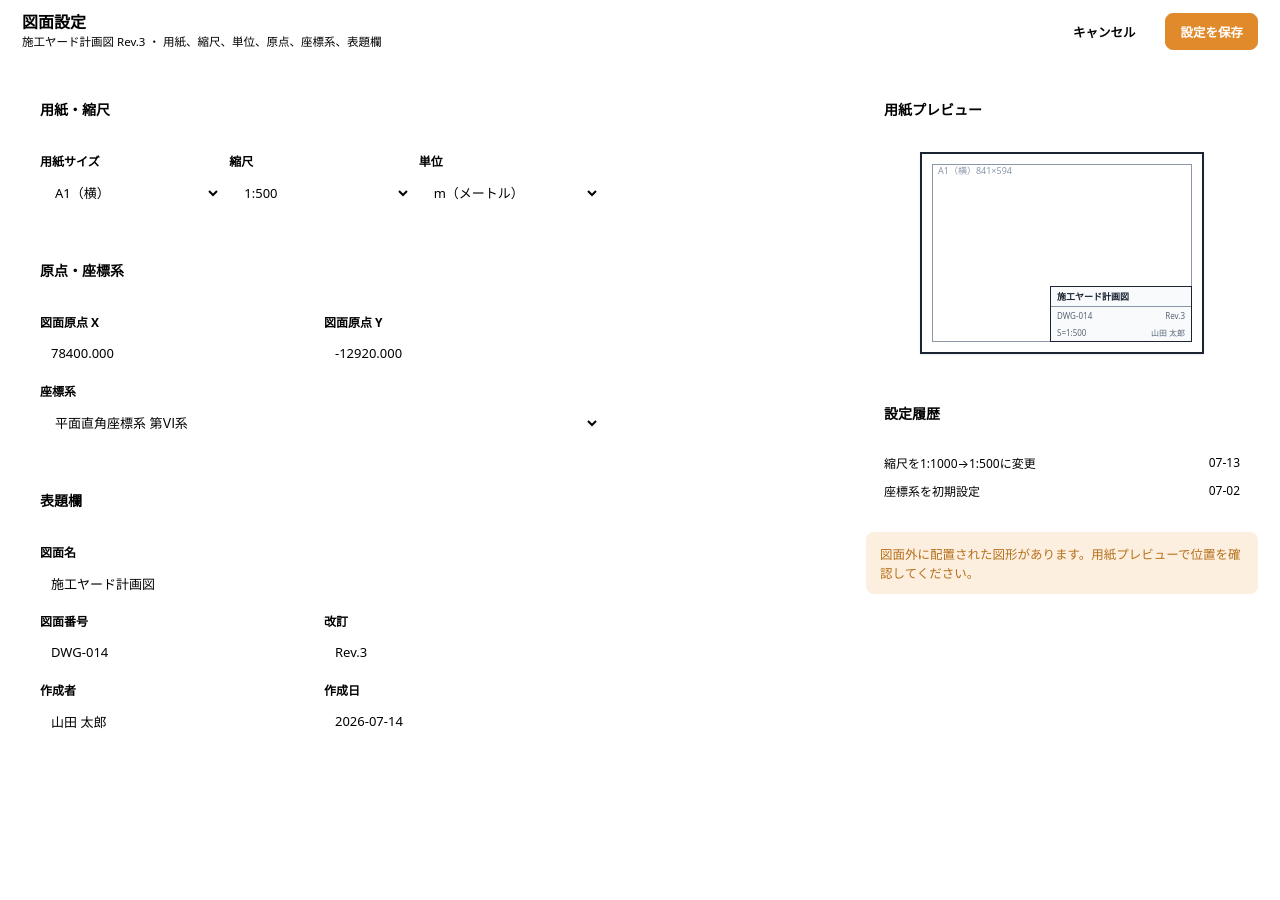
Test case: DrawingSettingsPage › 設定を保存するとヘッダーに反映し、キャンセルで保存済み設定へ戻す
Replace the text in the field showing "施工ヤード計画図" below "図面名" with "施工ヤード計画図 改" at {"x": 320, "y": 583}, box [40,566,600,600]
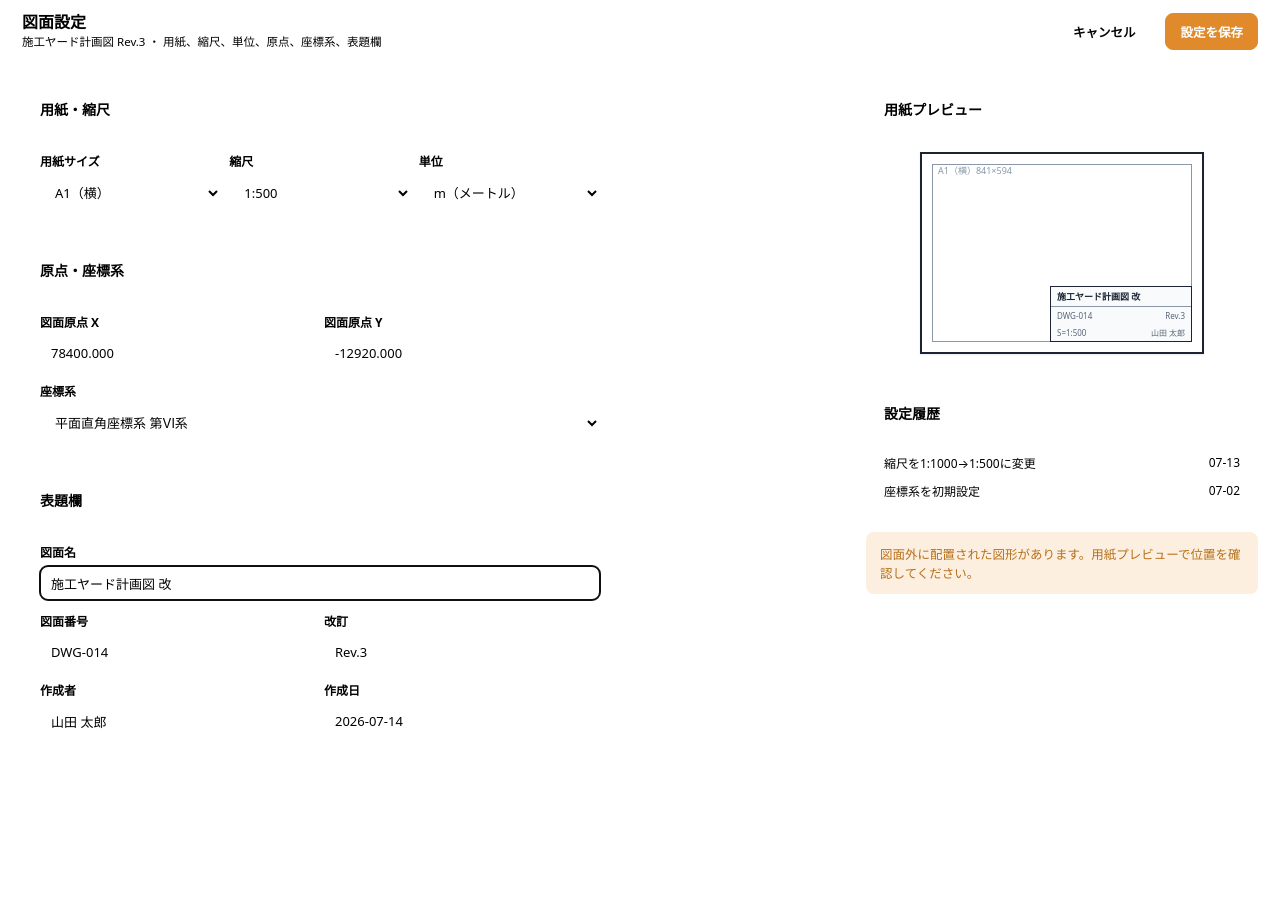
Click the button "設定を保存" at {"x": 1212, "y": 31}, box [1166,12,1258,50]
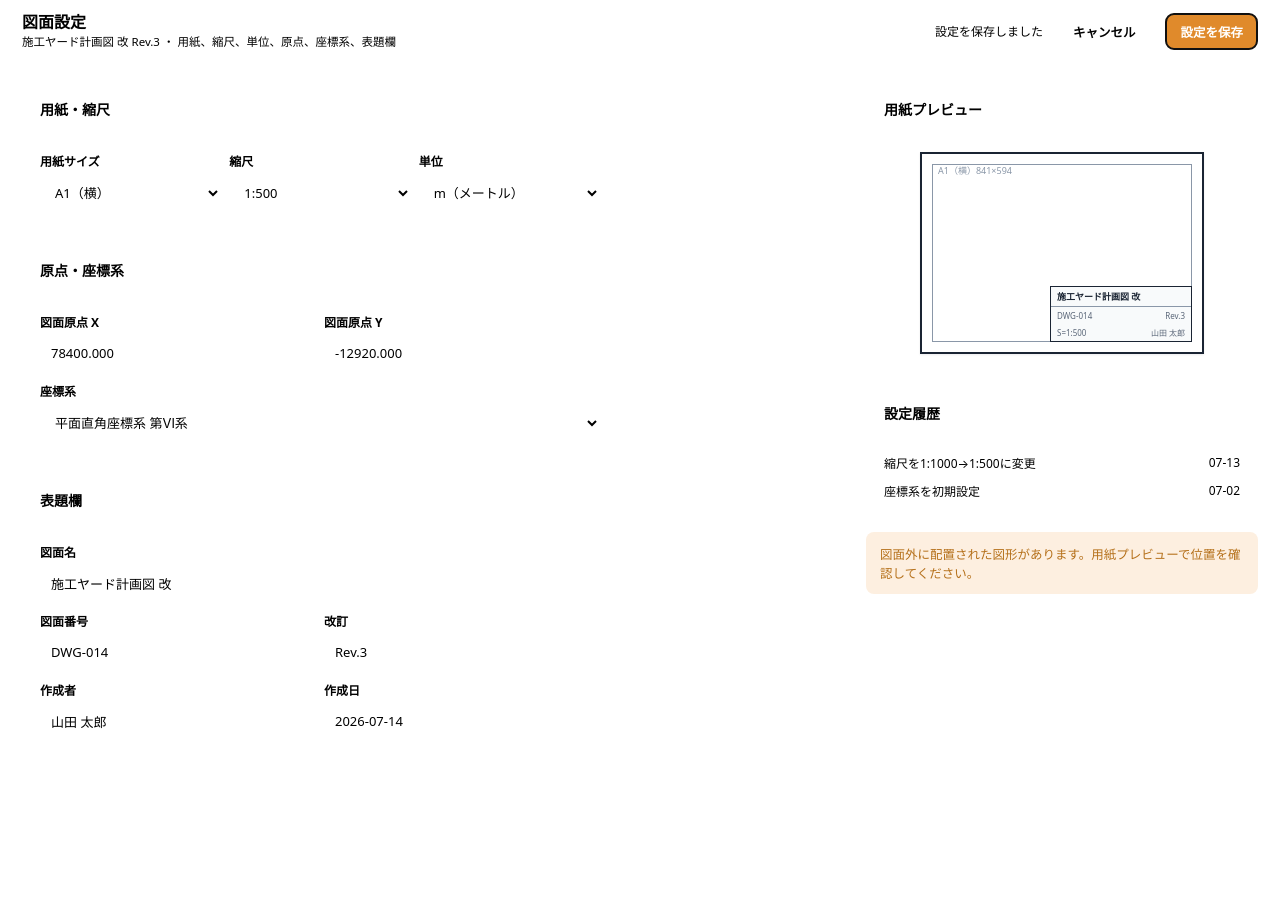
Check: the text "設定を保存しました" is shown, box [935,22,1043,40]
Check: the text "施工ヤード計画図 改 Rev.3 ・ 用紙、縮尺、単位、原点、座標系、表題欄" is shown, box [22,33,396,49]
Replace the text in the field showing "DWG-014" below "図面番号" with "DWG-999" at {"x": 178, "y": 652}, box [40,635,316,669]
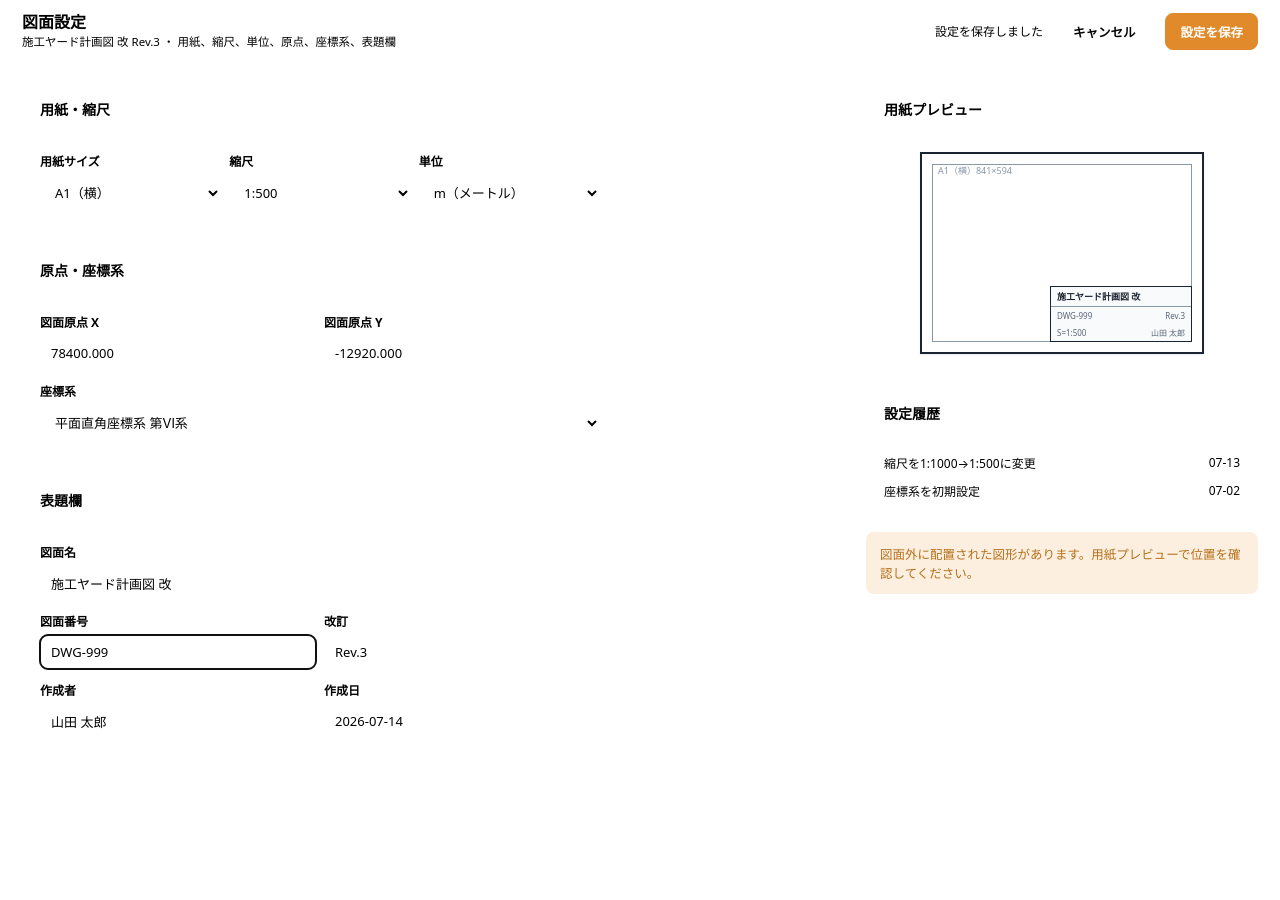
Click the button "キャンセル" at {"x": 1104, "y": 31}, box [1059,14,1150,48]
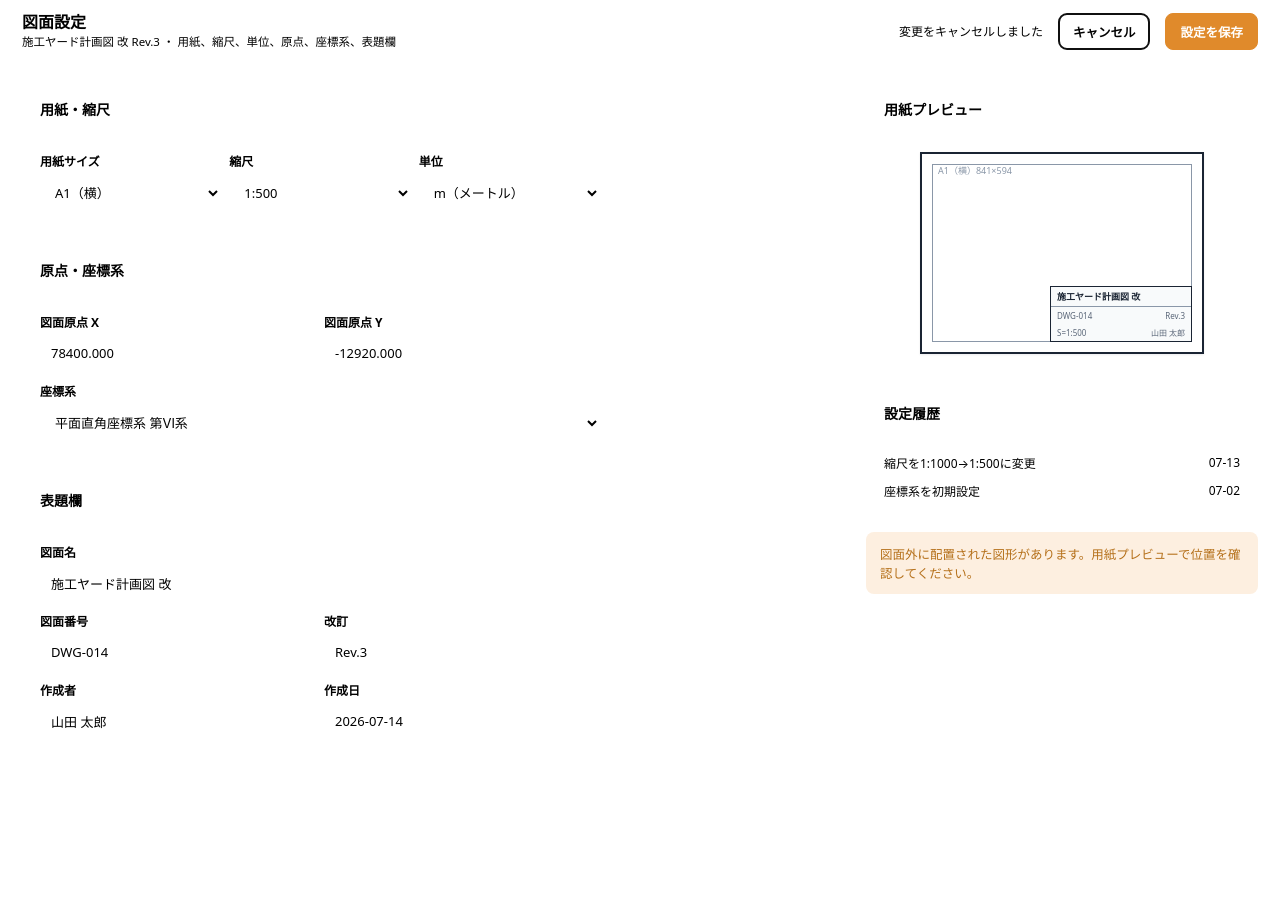
Check: the text "変更をキャンセルしました" is shown, box [899,22,1043,40]
Check: the field showing "DWG-014" below "図面番号" is shown, box [40,635,316,669]
